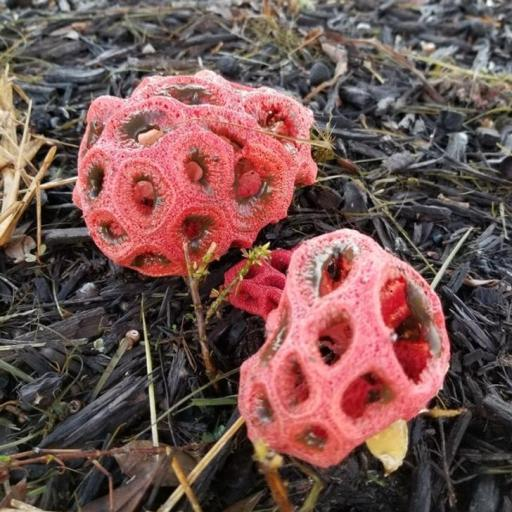mushroom: (225, 238, 447, 470), (75, 72, 303, 268)
